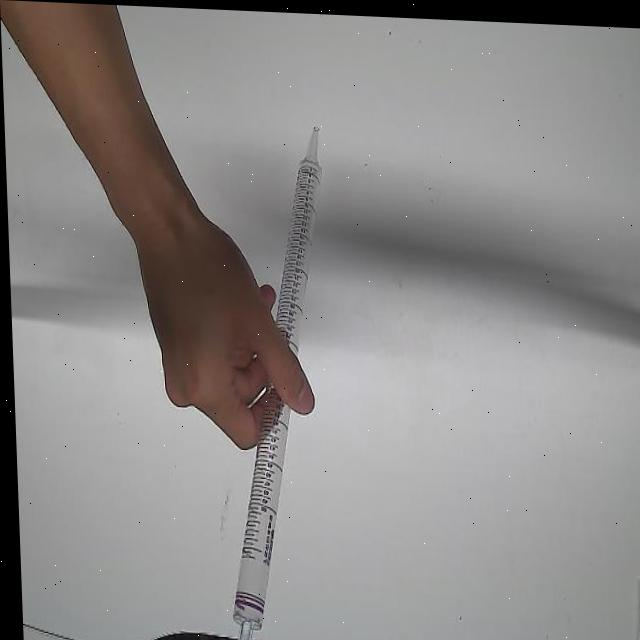Serelogical Pipet 50 mL: (208, 112, 343, 640)
